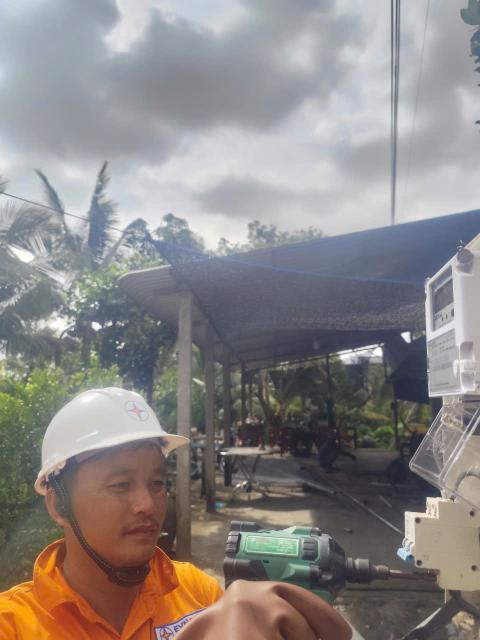helmet: (12, 388, 216, 489)
